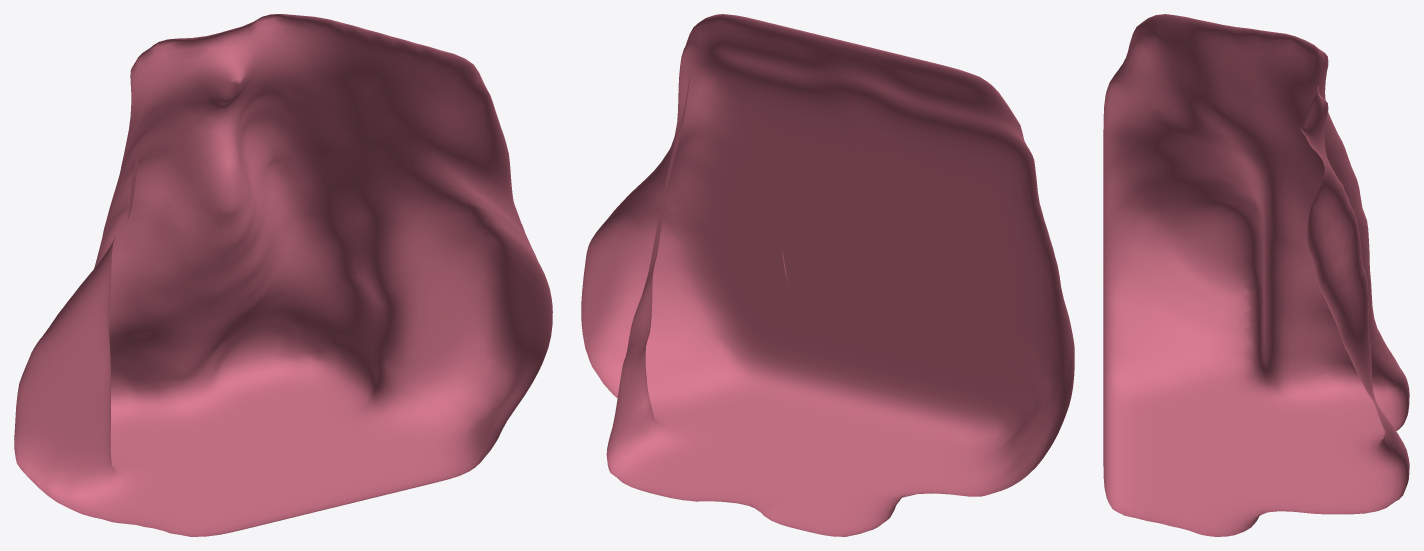
File: brainstem_peduncles.glb
The picture shows the model from 3 angles, left to right: view 1: azimuth 30°, elevation 25°; view 2: azimuth 150°, elevation 25°; view 3: azimuth 270°, elevation 25°; orthographic projection. The views are drawn at different scales.
Parts seen in each view (by area): view 1: Pedúnculos Cerebelosos y Conexión de Tronco; view 2: Pedúnculos Cerebelosos y Conexión de Tronco; view 3: Pedúnculos Cerebelosos y Conexión de Tronco.
Part boxes in pixels (box(x1,y1,x2,y2)): Pedúnculos Cerebelosos y Conexión de Tronco: box(14, 14, 552, 536); Pedúnculos Cerebelosos y Conexión de Tronco: box(581, 14, 1074, 536); Pedúnculos Cerebelosos y Conexión de Tronco: box(1103, 14, 1409, 536).
Bounding box in the file's own units: 1.5 × 1.19 × 0.8681.
